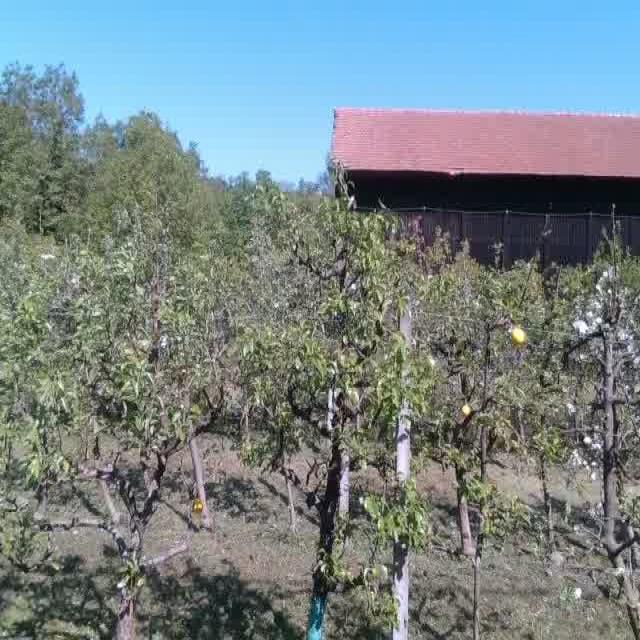yellow: (508, 324, 528, 346), (190, 499, 206, 516), (461, 402, 473, 416)
